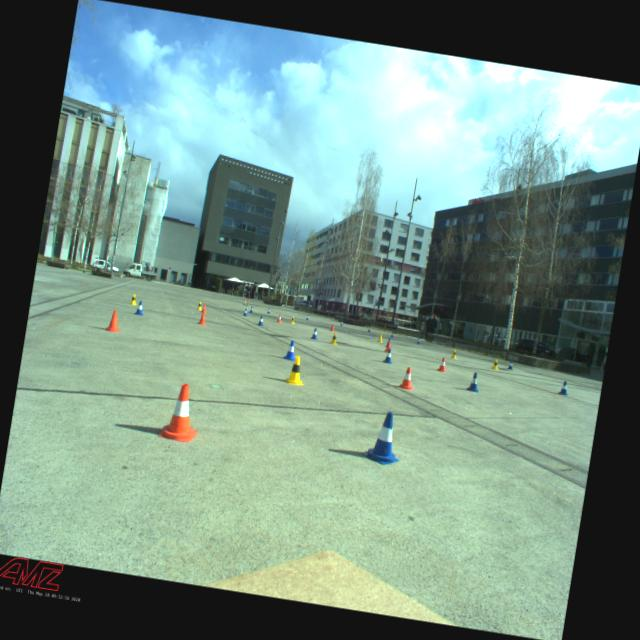blue_cone: (361, 409, 406, 467), (466, 372, 482, 393), (284, 339, 298, 362), (134, 300, 146, 316), (558, 380, 570, 396), (383, 348, 395, 363), (311, 328, 320, 340), (258, 316, 266, 326), (385, 338, 392, 348), (243, 308, 250, 317), (507, 361, 514, 370), (416, 337, 422, 344), (250, 306, 254, 313), (268, 308, 272, 314), (306, 314, 310, 320), (391, 332, 395, 338), (340, 321, 344, 326), (368, 328, 372, 332)
orange_cone: (158, 381, 205, 443), (398, 366, 417, 391), (106, 310, 124, 334), (437, 356, 448, 372), (198, 311, 208, 325), (384, 341, 391, 353), (201, 304, 208, 314), (276, 314, 282, 323), (330, 324, 336, 332)
yellow_cone: (284, 354, 309, 387), (330, 332, 340, 345), (130, 293, 138, 306), (491, 360, 500, 370), (451, 349, 458, 359), (197, 300, 203, 310), (290, 316, 296, 325), (378, 334, 384, 343)
